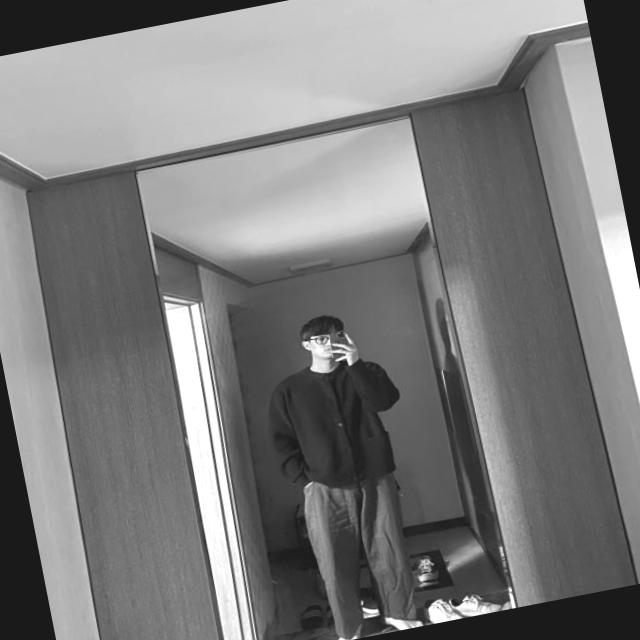cardigan: (258, 346, 420, 502)
cottonpants: (297, 464, 429, 640)
